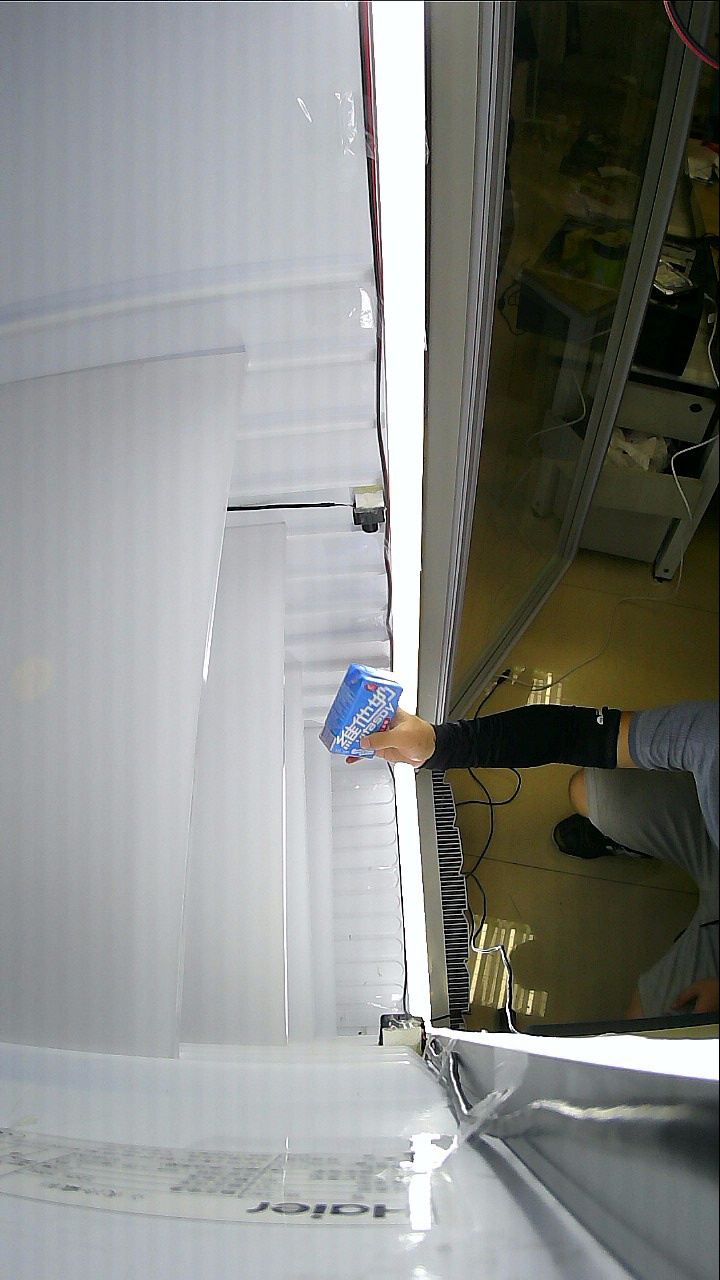VitaSoyOriginal: (324, 660, 482, 773)
